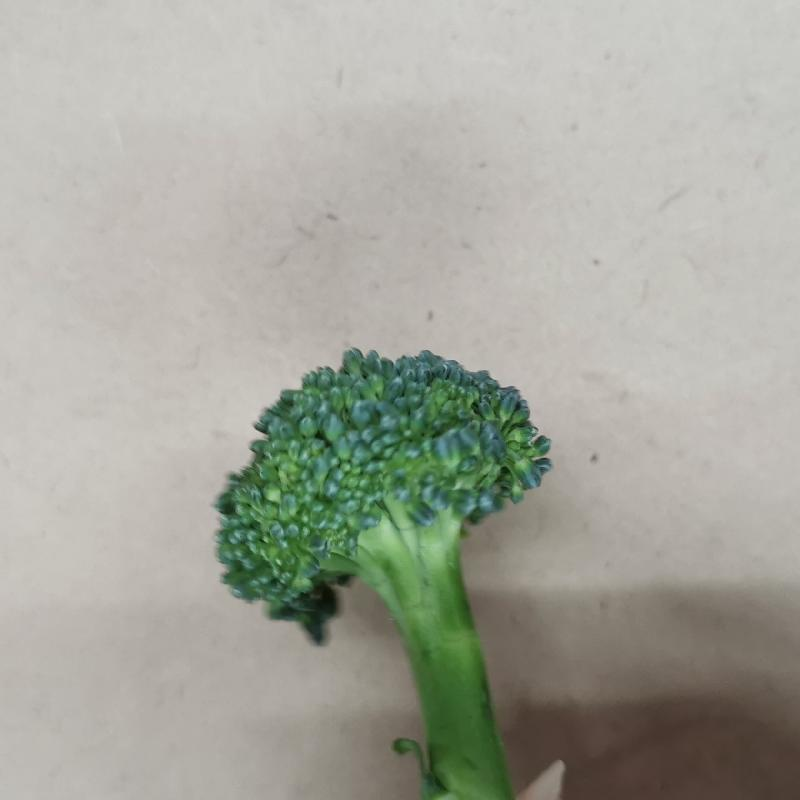broccoli: (207, 344, 560, 800)
